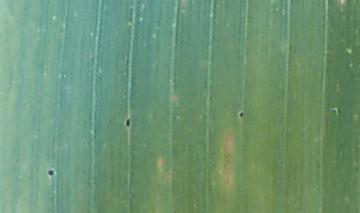tarspot: (47, 167, 57, 178), (238, 106, 246, 119), (124, 116, 132, 128)
